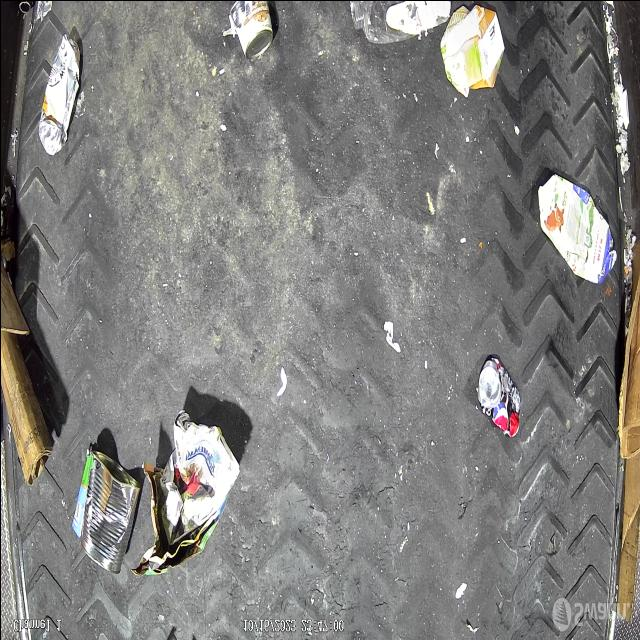can: (78, 449, 140, 574), (37, 32, 79, 156), (476, 354, 520, 436), (228, 0, 272, 57)
non_white_jug: (538, 173, 616, 283), (438, 3, 504, 97)
plastic_bottle: (349, 0, 450, 43)
